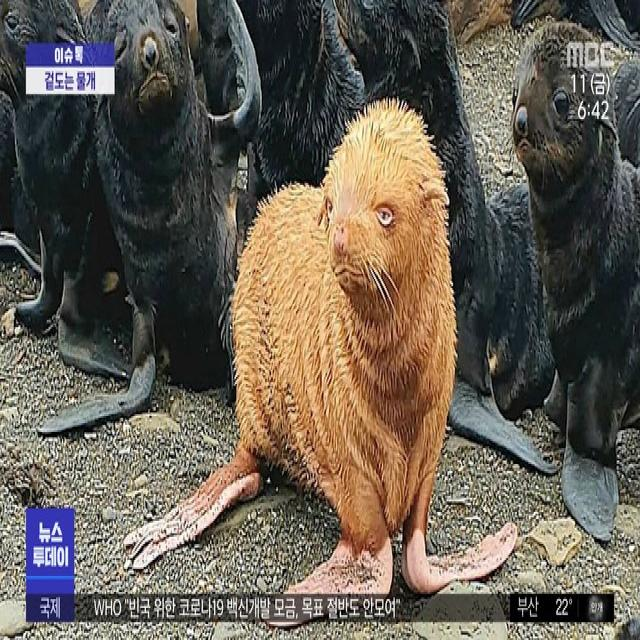WaterDog: (227, 97, 453, 614), (511, 23, 640, 548)
